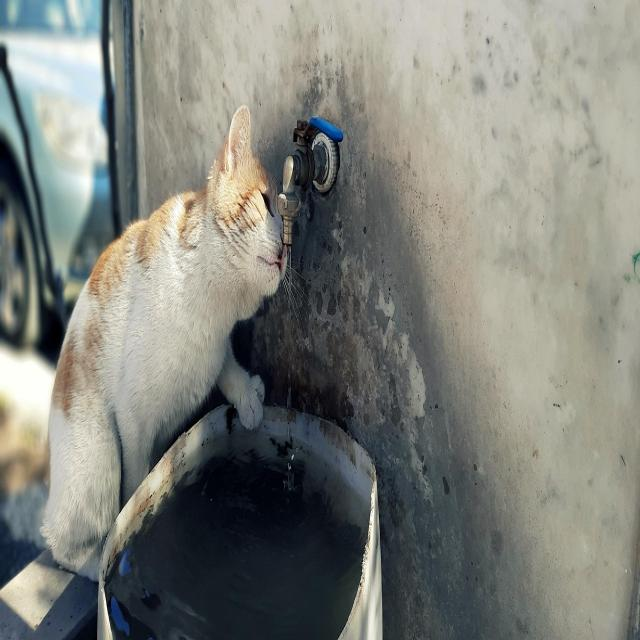cat: (48, 106, 287, 579)
